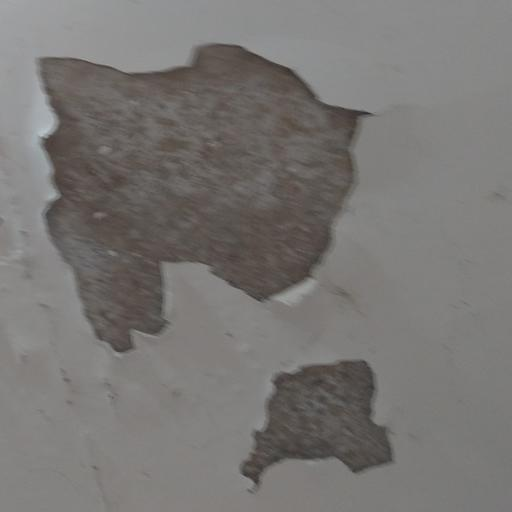peeling: (20, 39, 406, 363), (236, 338, 411, 503), (24, 345, 157, 512)
